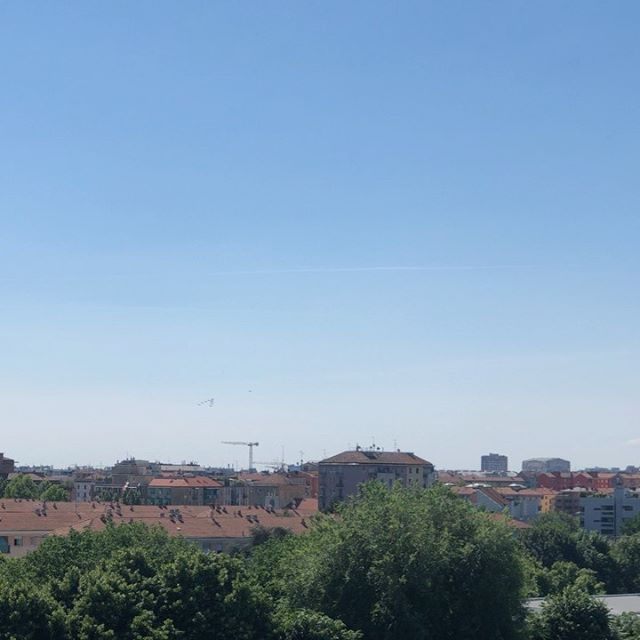building: (320, 436, 439, 526), (574, 488, 640, 538), (134, 469, 220, 504), (525, 452, 576, 472), (480, 451, 507, 471)
sky: (1, 1, 640, 454)
vegetation: (1, 503, 607, 640)
